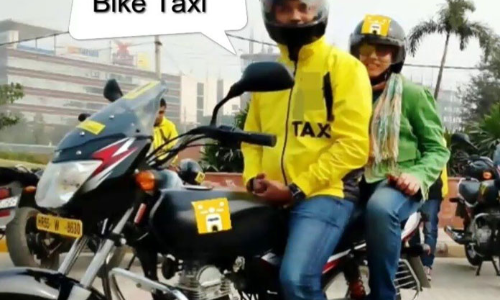bike: (40, 56, 437, 300), (454, 127, 500, 270)
